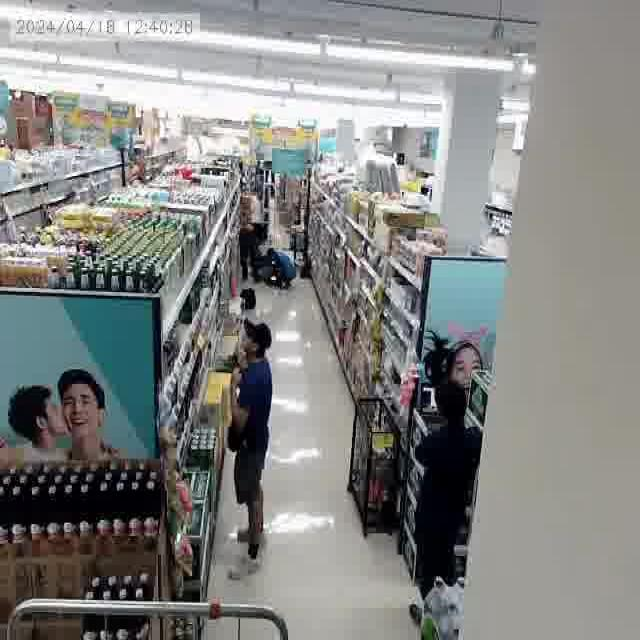shoplifting: (225, 310, 290, 591)
